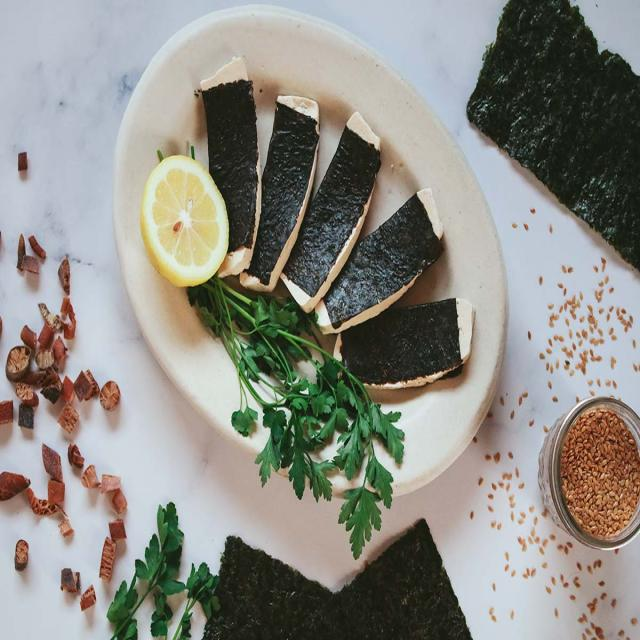pescado: (266, 95, 346, 306)
